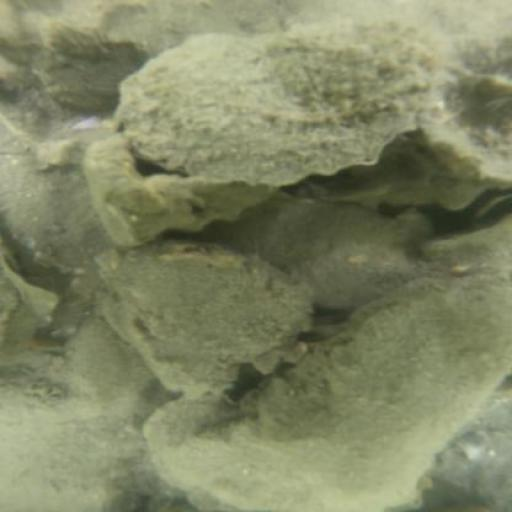Oyster-Closed: (229, 272, 502, 505), (117, 24, 450, 181), (108, 246, 312, 387), (236, 202, 420, 308)
Oyster-Open: (462, 194, 512, 232)
